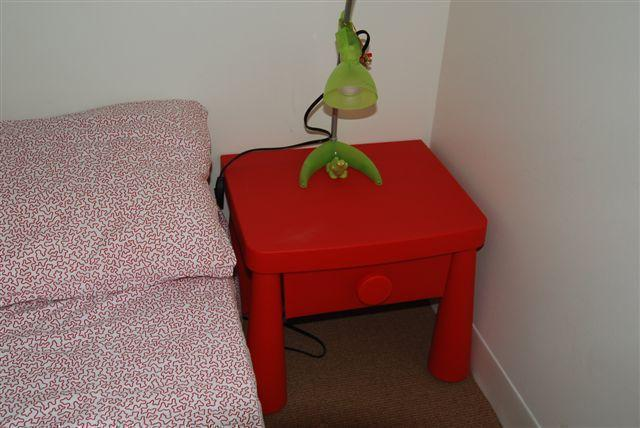Cama: (4, 93, 212, 424)
